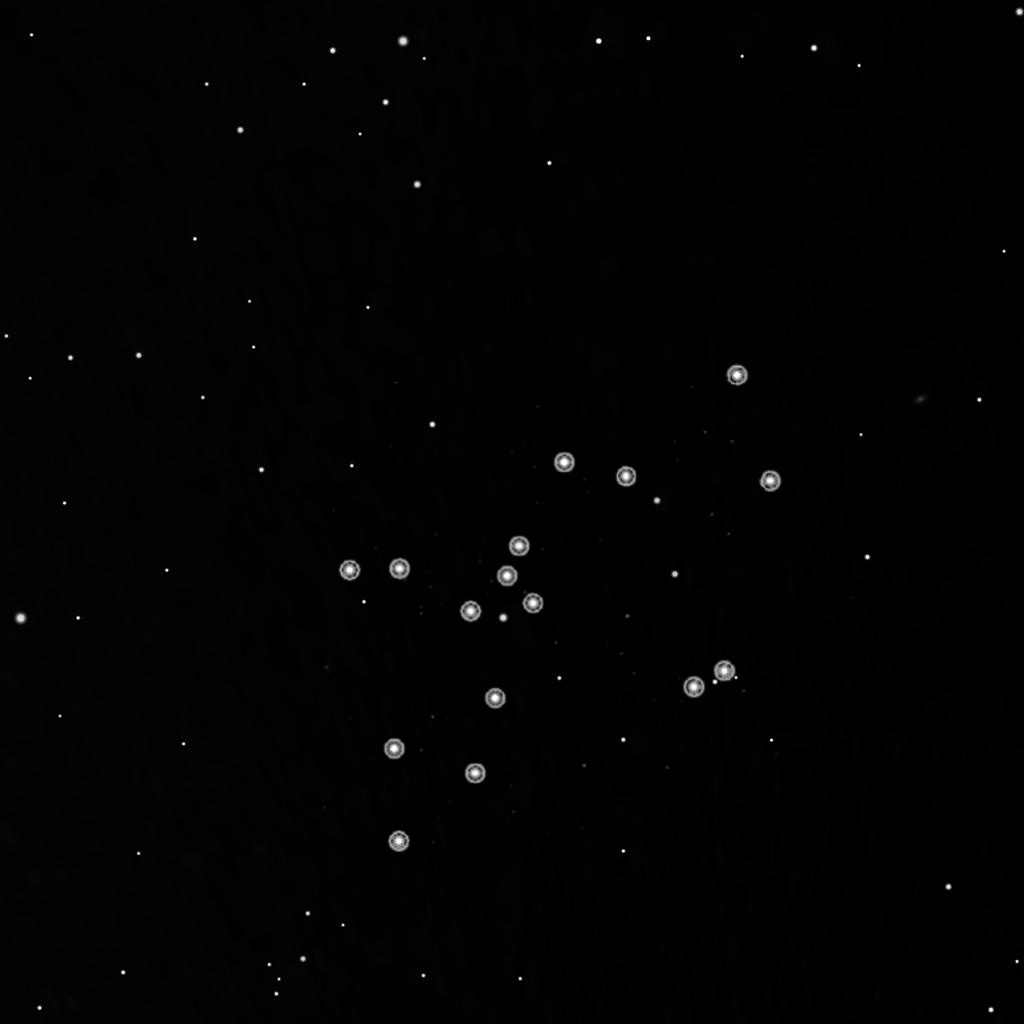canis_major: (454, 445, 641, 627)
